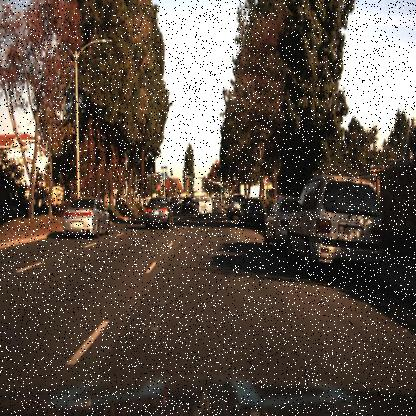car: (284, 177, 383, 280), (263, 194, 304, 249), (63, 196, 112, 240), (141, 194, 176, 230), (237, 196, 263, 226), (228, 194, 245, 223), (197, 196, 215, 218), (180, 194, 195, 215), (168, 195, 182, 216)
